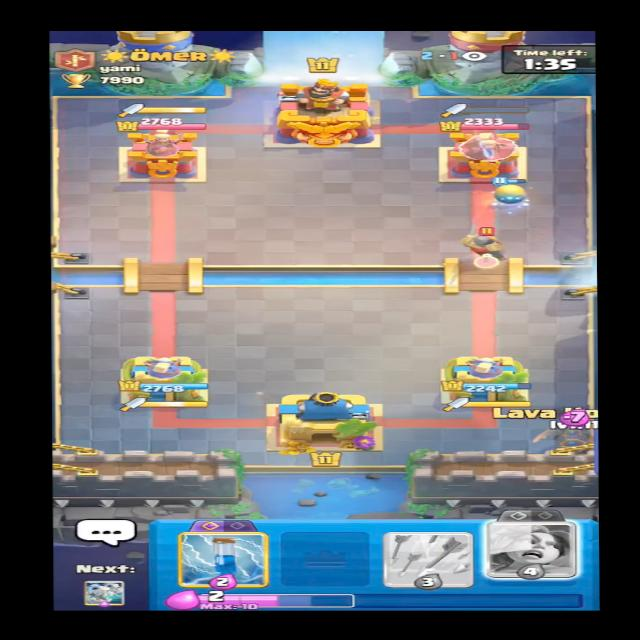knight: (456, 220, 513, 264)
